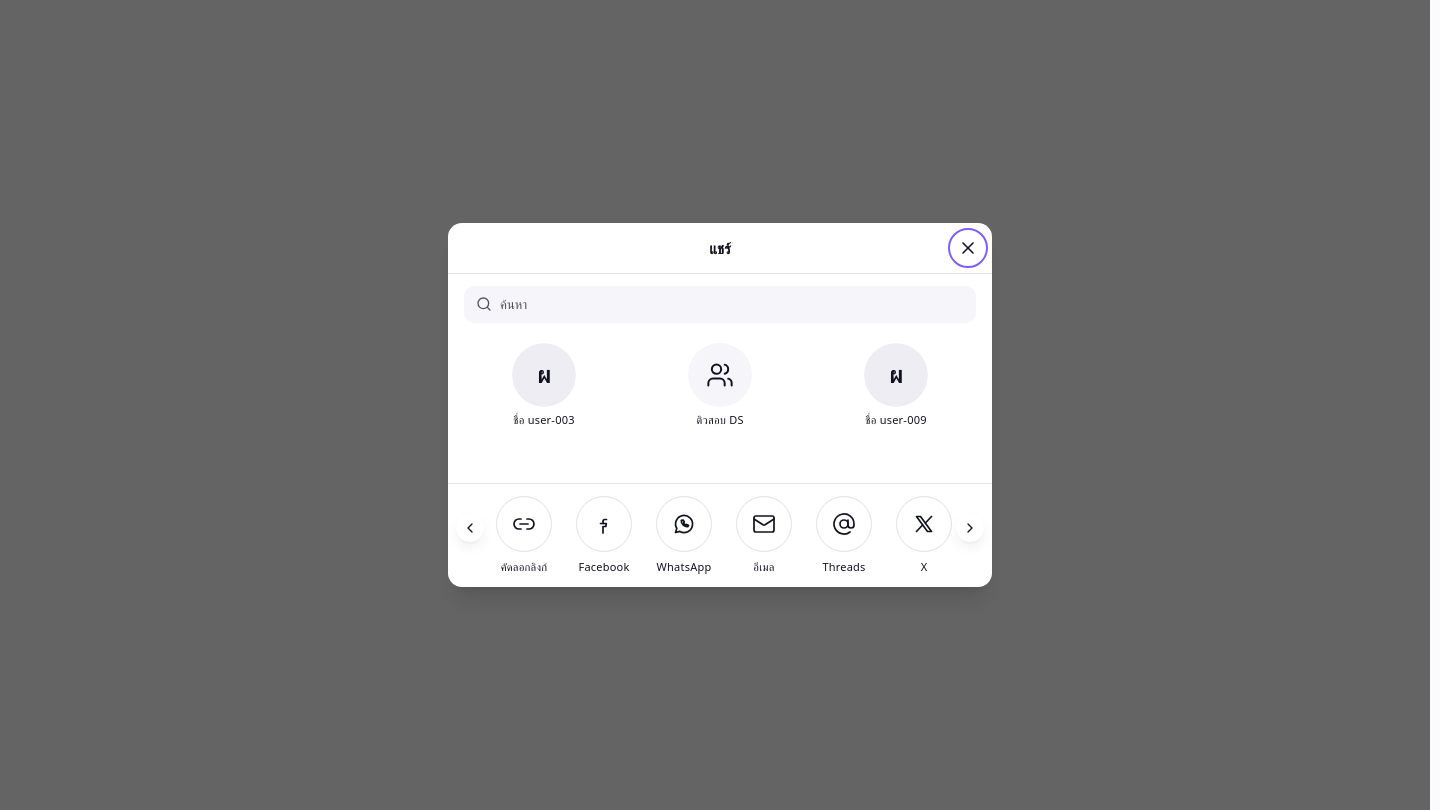
Scenario: แผ่นแชร์ › เลือกแล้วขึ้นติ๊กฟ้า + ช่องข้อความ + ปุ่มส่ง → POST /shares แล้ว "ส่งแล้ว"
Click the button "ผ ชื่อ user-003". click: (544, 385)
box: x1=456 y1=335 x2=632 y2=434
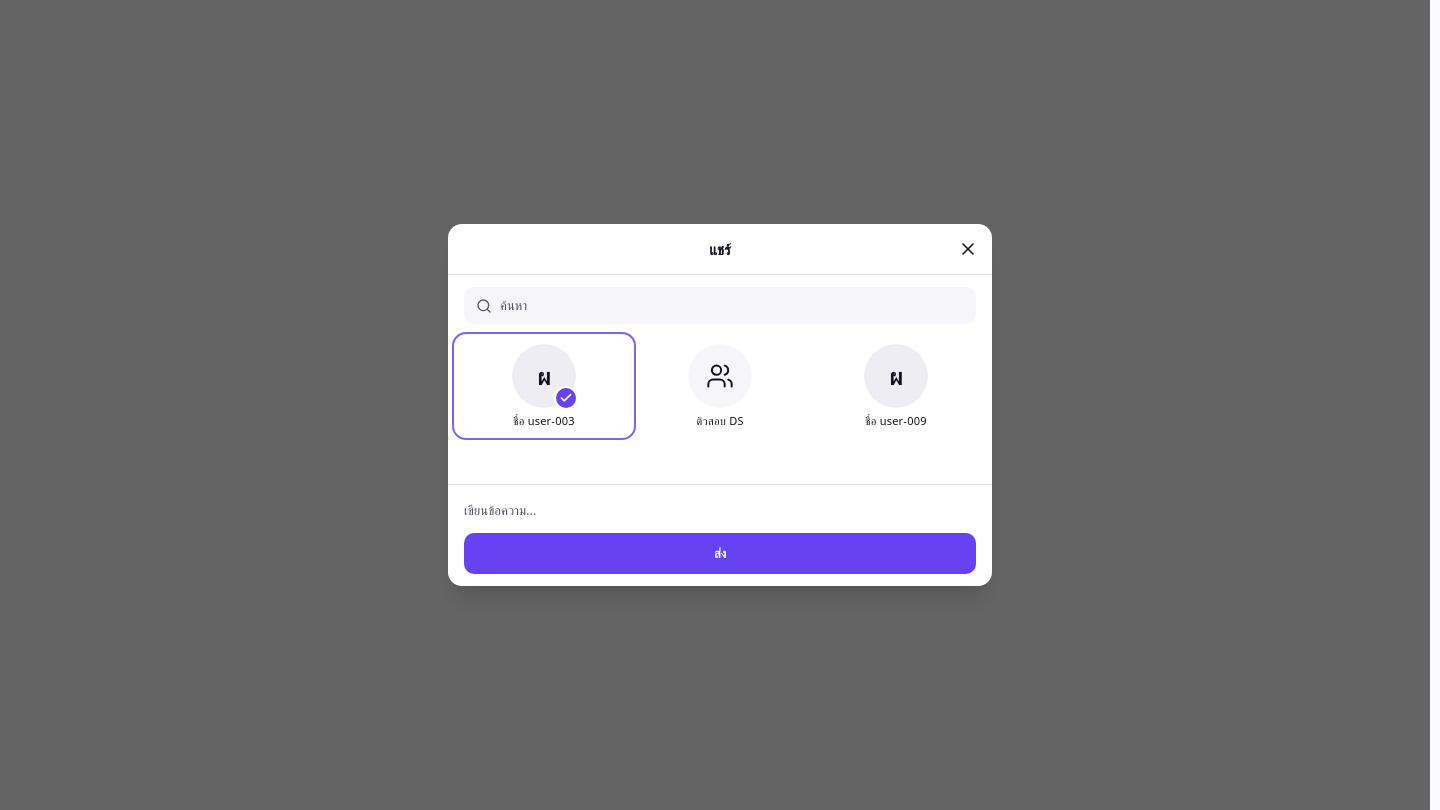
Click the button "ผ ชื่อ user-009". click: (896, 386)
box: x1=808 y1=336 x2=984 y2=436
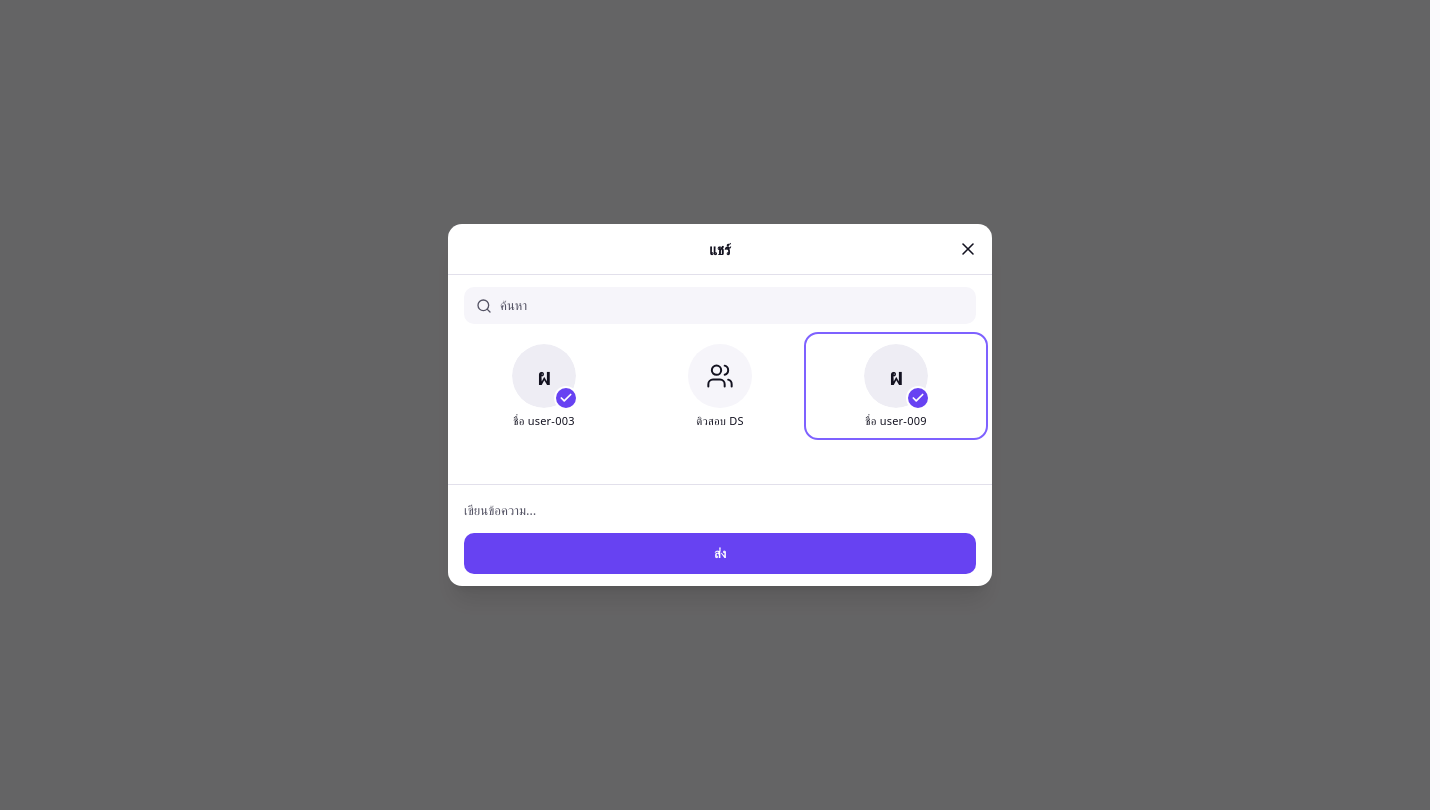
Expected: the button "ผ ชื่อ user-003" is pressed, x1=456 y1=336 x2=632 y2=436
Type "ดูนี่" into the field labelled "เขียนข้อความ". click: (720, 511)
box: x1=464 y1=500 x2=976 y2=521
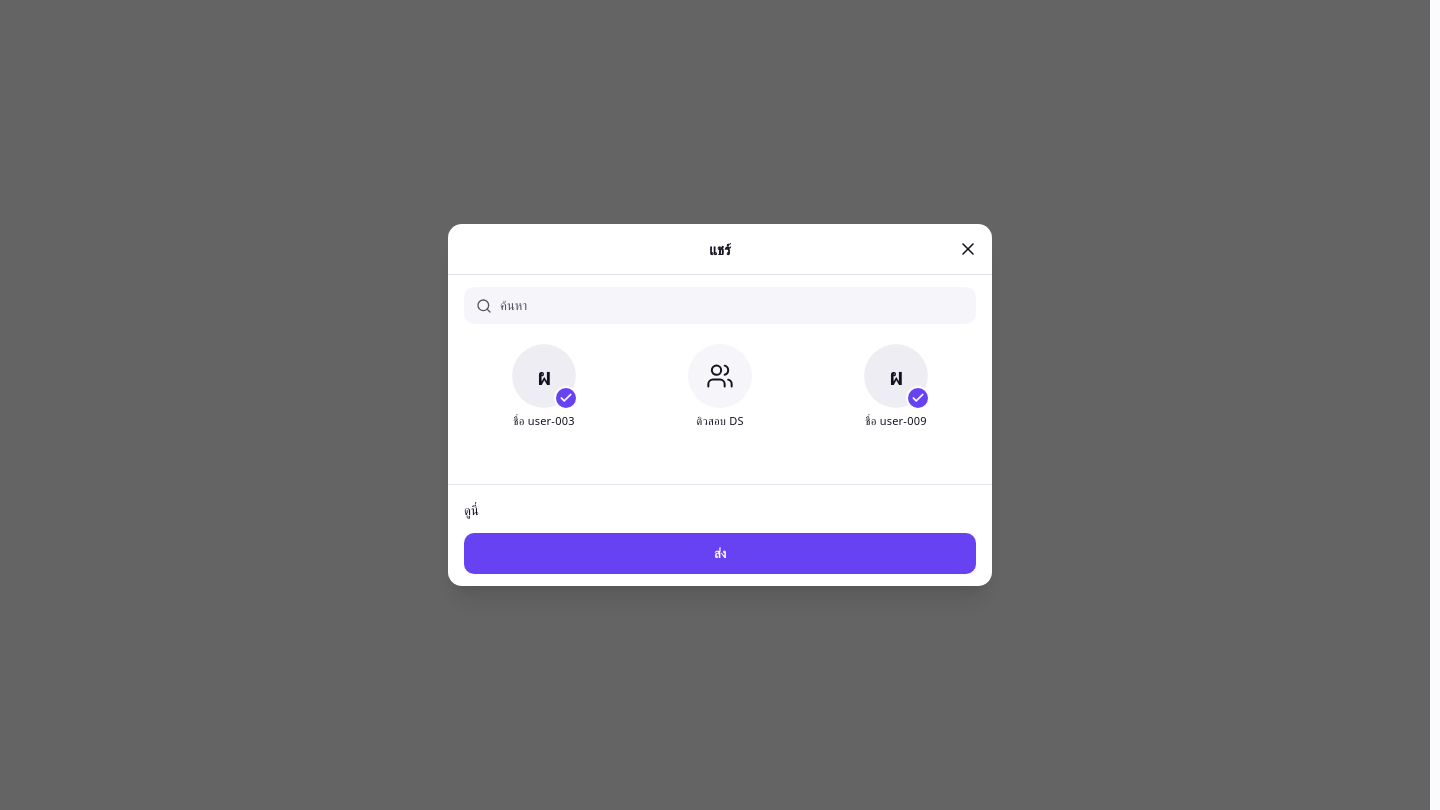
Click the button "ส่ง". click: (720, 553)
box: x1=464 y1=533 x2=976 y2=574
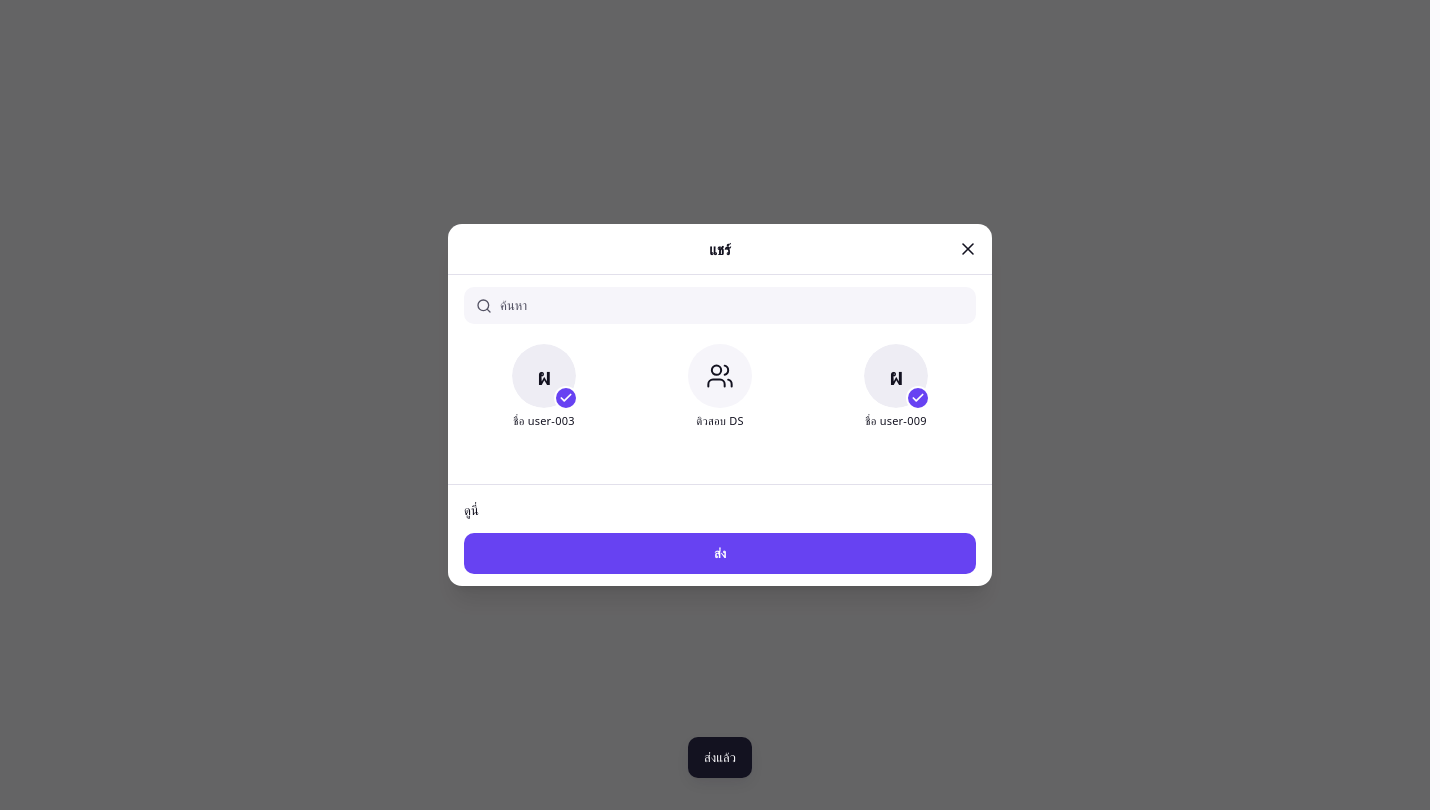
Expected: the text "ส่งแล้ว" is shown, x1=688 y1=737 x2=752 y2=778
